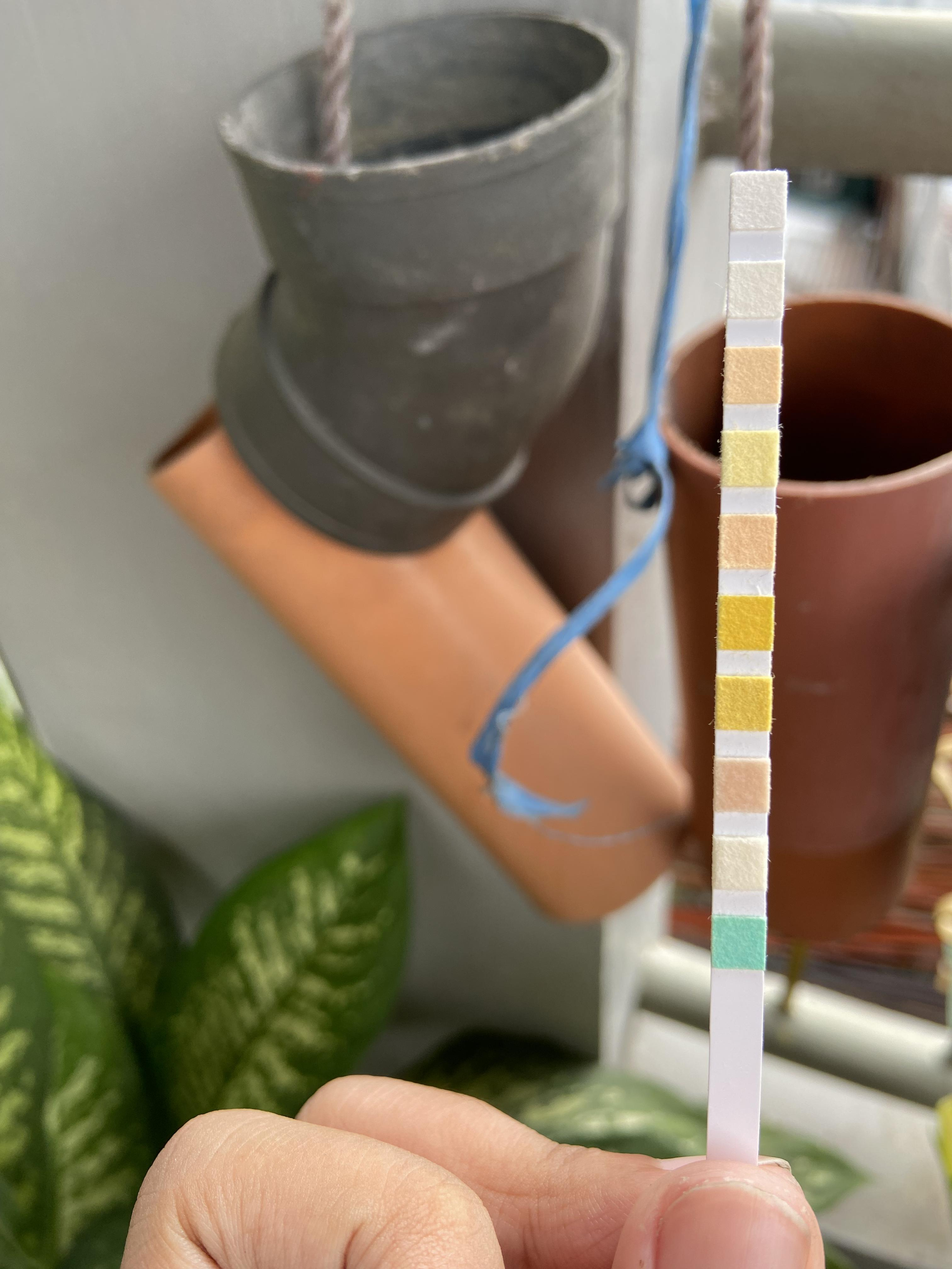Bilirubin: (713, 838, 767, 890)
Blood: (718, 596, 772, 649)
Glucose: (712, 917, 765, 968)
Ketone: (715, 758, 770, 810)
Leukocytes: (731, 174, 786, 227)
Nitrite: (729, 263, 783, 316)
Protein: (722, 432, 777, 486)
SpGravity: (716, 678, 772, 728)
Urobilinogen: (725, 348, 780, 403)
pH: (719, 516, 775, 567)
strip: (710, 170, 782, 1153)
